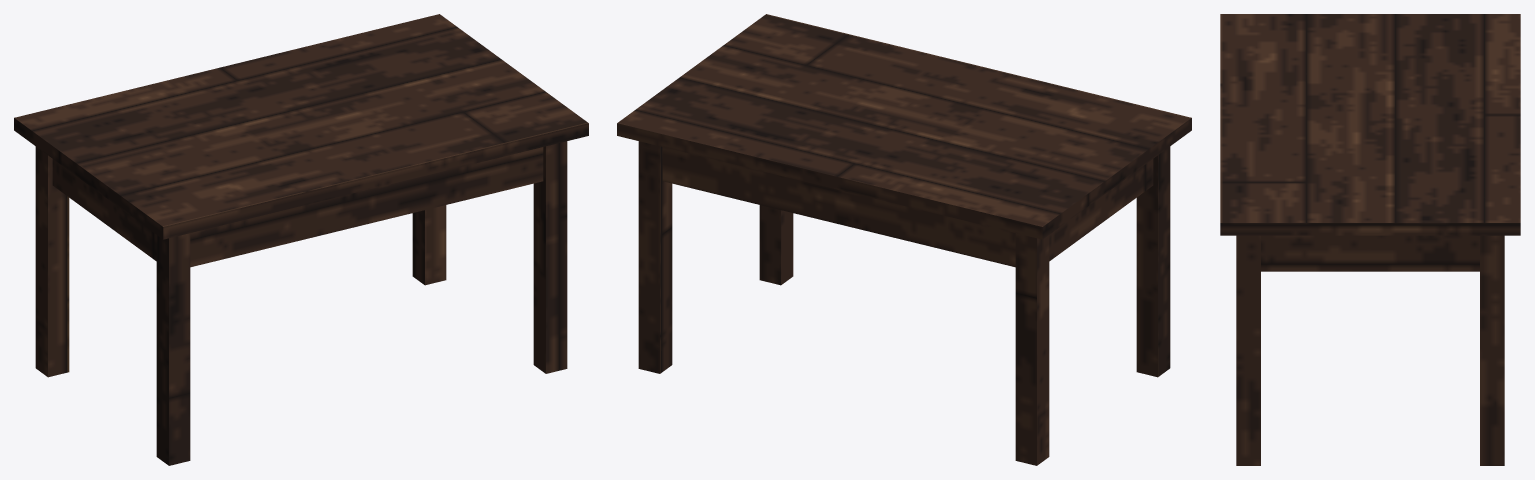
Rendered from Furn_Table_Normal.fbx.
3 views of the same model, side by side, from view 1: azimuth 30°, elevation 25°; view 2: azimuth 150°, elevation 25°; view 3: azimuth 270°, elevation 25° (orthographic).
Parts seen in each view (by area): view 1: Furn_Table_Normal; view 2: Furn_Table_Normal; view 3: Furn_Table_Normal.
Boxes of the visible parts, <box> form: Furn_Table_Normal: <box>14,14,588,465</box>; Furn_Table_Normal: <box>617,14,1191,465</box>; Furn_Table_Normal: <box>1220,14,1520,465</box>.
Bounding box in the file's own units: 1.4 × 0.78 × 0.85.
